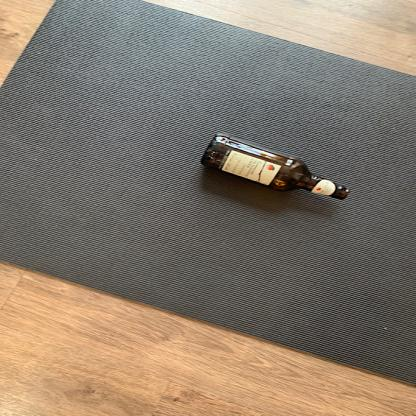trash: (196, 132, 352, 208)
